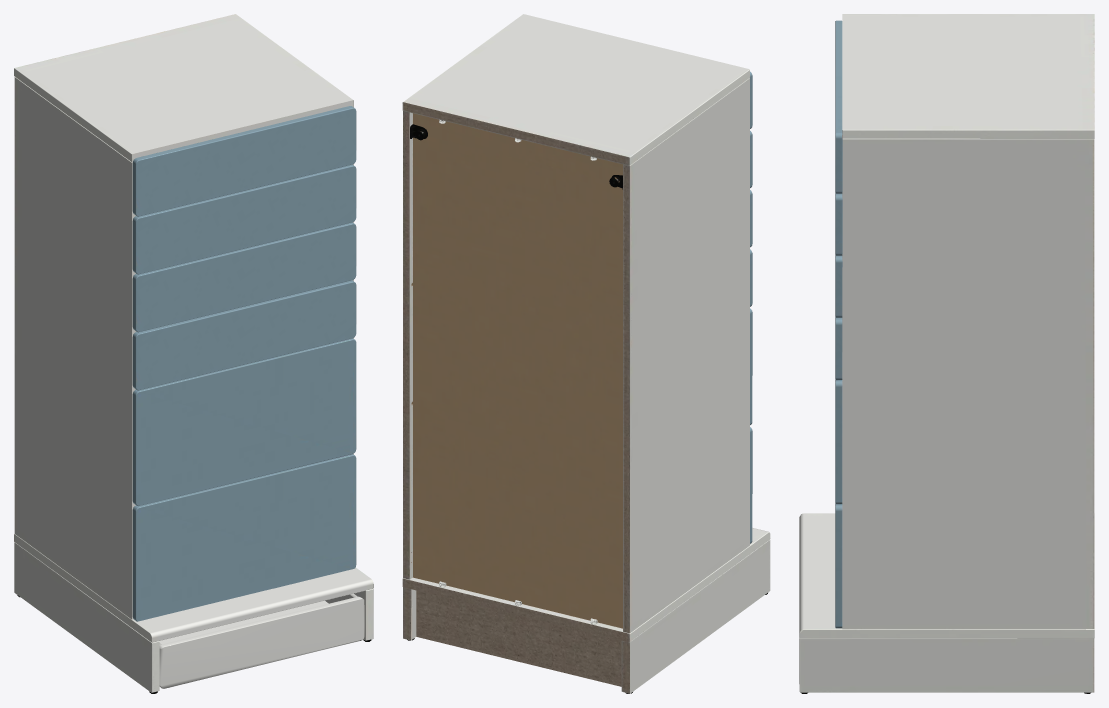
File: smastad_platsa_komoda_6_szuflad_69545329.glb
3 views of the same model, side by side, from view 1: azimuth 30°, elevation 25°; view 2: azimuth 150°, elevation 25°; view 3: azimuth 270°, elevation 25° (orthographic). The views are drawn at different scales.
Parts seen in each view (by area): view 1: smastad_platsa_komoda_6_szuflad_69545329; view 2: smastad_platsa_komoda_6_szuflad_69545329; view 3: smastad_platsa_komoda_6_szuflad_69545329.
Boxes of the visible parts, x1=… form: smastad_platsa_komoda_6_szuflad_69545329: x1=14, y1=14, x2=373, y2=693; smastad_platsa_komoda_6_szuflad_69545329: x1=402, y1=14, x2=770, y2=693; smastad_platsa_komoda_6_szuflad_69545329: x1=799, y1=14, x2=1094, y2=693.
Bounding box in the file's own units: 0.6011 × 1.36 × 0.6453.
4 materials, 4 textured.
